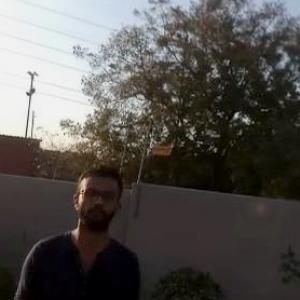follow: (7, 159, 146, 299)
